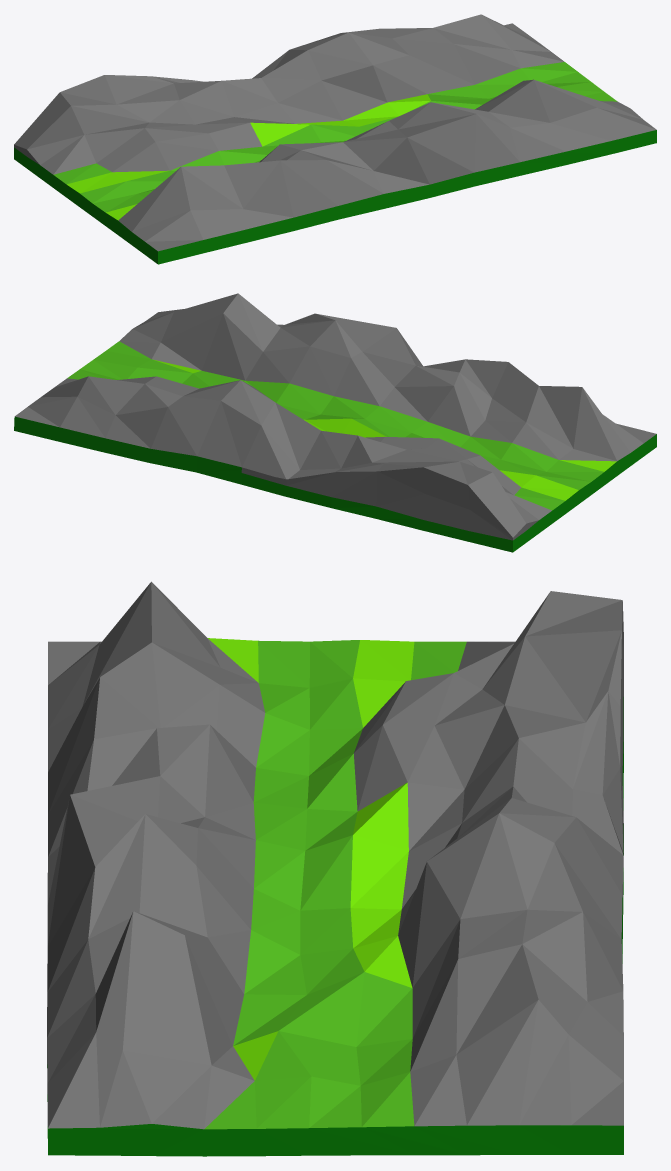
Rendered from PlaneSummer2.fbx.
3 renders of one model, top to bottom at view 1: azimuth 30°, elevation 25°; view 2: azimuth 150°, elevation 25°; view 3: azimuth 270°, elevation 25°, orthographic. The views are drawn at different scales.
Visible parts, largest first — view 1: PlaneSummer2.Cliffs, PlaneSummer2.Floor, PlaneSummer2.Grass, PlaneSummer2.Grass1; view 2: PlaneSummer2.Cliffs, PlaneSummer2.Grass, PlaneSummer2.Floor, PlaneSummer2.Grass1; view 3: PlaneSummer2.Cliffs, PlaneSummer2.Grass, PlaneSummer2.Floor, PlaneSummer2.Grass1.
Boxes of the visible parts, x1=… form: PlaneSummer2.Cliffs: x1=14, y1=14, x2=656, y2=251; PlaneSummer2.Floor: x1=14, y1=130, x2=656, y2=264; PlaneSummer2.Grass: x1=53, y1=62, x2=617, y2=212; PlaneSummer2.Grass1: x1=67, y1=94, x2=430, y2=220; PlaneSummer2.Cliffs: x1=15, y1=293, x2=656, y2=540; PlaneSummer2.Grass: x1=67, y1=341, x2=603, y2=510; PlaneSummer2.Floor: x1=14, y1=416, x2=656, y2=552; PlaneSummer2.Grass1: x1=153, y1=359, x2=616, y2=500; PlaneSummer2.Cliffs: x1=47, y1=581, x2=623, y2=1129; PlaneSummer2.Grass: x1=204, y1=640, x2=466, y2=1129; PlaneSummer2.Floor: x1=47, y1=697, x2=623, y2=1156; PlaneSummer2.Grass1: x1=208, y1=638, x2=414, y2=1080.
Bounding box in the file's own units: 40039 × 5840 × 20045.
